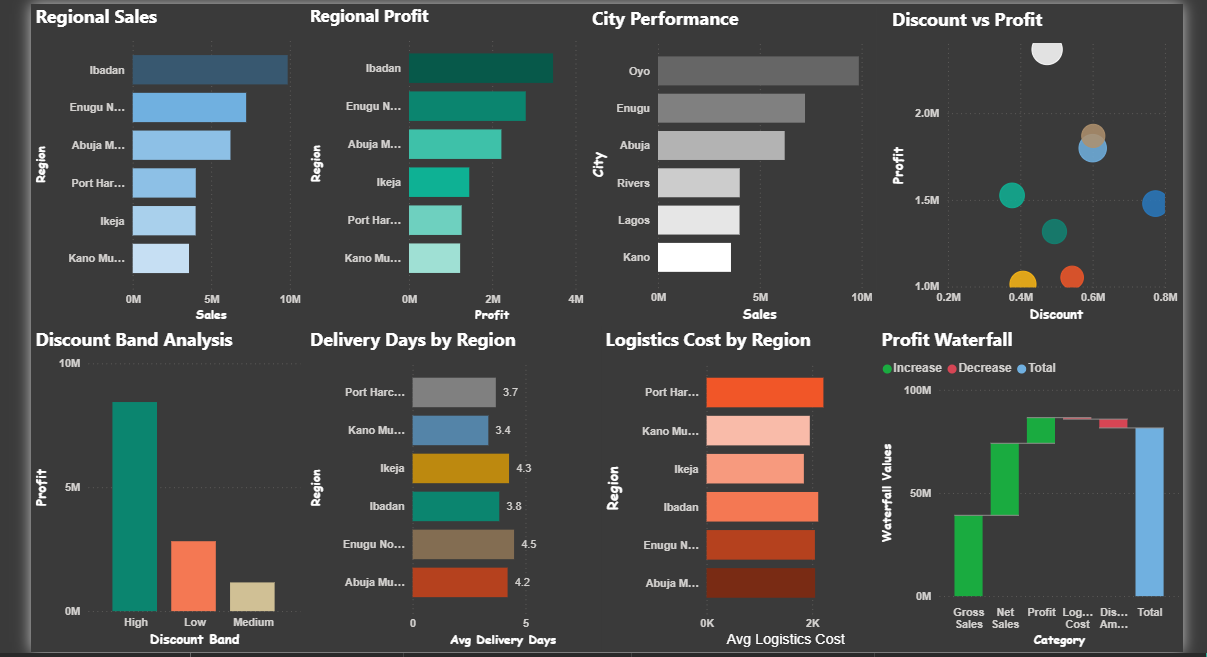

Layout of this report page (visuals, bound fields, positions):
{"tool":"powerbi","page":{"name":"Geography, Discounts & Logistics.","canvas":[1280,720],"ordinal":3},"visuals":[{"type":"clusteredBarChart","title":"Regional Sales","fields":{"Category":["sales_summary_view.region"],"Y":["sales_summary_view.Total Sales"]},"box":[0,0,304.3,359.1],"z":0},{"type":"barChart","title":"Regional Profit","fields":{"Category":["sales_summary_view.region"],"Y":["sales_summary_view.Total Profit"]},"box":[304.3,0,313.7,359.1],"z":1000},{"type":"clusteredBarChart","title":"City Performance","fields":{"Category":["sales_summary_view.city"],"Y":["sales_summary_view.Total Sales"]},"box":[618,1.9,321.3,357.2],"z":2000},{"type":"scatterChart","title":" Discount vs Profit","fields":{"X":["sales_summary_view.Total Discount"],"Y":["sales_summary_view.Total Profit"],"Category":["sales_summary_view.product_name"],"Size":["sales_summary_view.Total Orders"]},"box":[952.4,3.8,326.9,355.3],"z":3000},{"type":"clusteredColumnChart","title":"Discount Band Analysis","fields":{"Category":["sales_summary_view.Discount Band"],"Y":["sales_summary_view.Total Profit"]},"box":[0,359.1,304.3,360.9],"z":4000},{"type":"clusteredBarChart","title":"Logistics Cost by Region","fields":{"Category":["sales_summary_view.region"],"Y":["sales_summary_view.Avg Logistics Cost"]},"box":[633.1,359.1,306.1,360.9],"z":5000},{"type":"clusteredBarChart","title":"Delivery Days by Region","fields":{"Category":["sales_summary_view.region"],"Y":["sales_summary_view.Avg Delivery Days"]},"box":[304.3,359.1,328.8,360.9],"z":6000},{"type":"waterfallChart","title":"Profit Waterfall","fields":{"Category":["Waterfall_Table.Category"],"Y":["Waterfall_Table.Waterfall Values"]},"box":[939.2,359.1,340.2,360.9],"z":7000},{"type":"slicer","fields":{"Values":["sales_summary_view.order_year","sales_summary_view.region","sales_summary_view.category","sales_summary_view.segment","sales_summary_view.sales_channel","sales_summary_view.order_status"]},"box":[460.4,390.6,405.7,239.6],"z":8000}]}

Visuals, with their boxes on the page's 1280x720 design canvas (x1, y1, x2, y2). These are canvas units, not pixel positions in the 1207x657 screenshot, which may show the page scaled, cropped or inside an application window:
"Regional Sales" clusteredBarChart: box=[0, 0, 304, 359]
"Regional Profit" barChart: box=[304, 0, 618, 359]
"City Performance" clusteredBarChart: box=[618, 2, 939, 359]
" Discount vs Profit" scatterChart: box=[952, 4, 1279, 359]
"Discount Band Analysis" clusteredColumnChart: box=[0, 359, 304, 720]
"Logistics Cost by Region" clusteredBarChart: box=[633, 359, 939, 720]
"Delivery Days by Region" clusteredBarChart: box=[304, 359, 633, 720]
"Profit Waterfall" waterfallChart: box=[939, 359, 1279, 720]
slicer - sales_summary_view.order_year x sales_summary_view.region: box=[460, 391, 866, 630]
